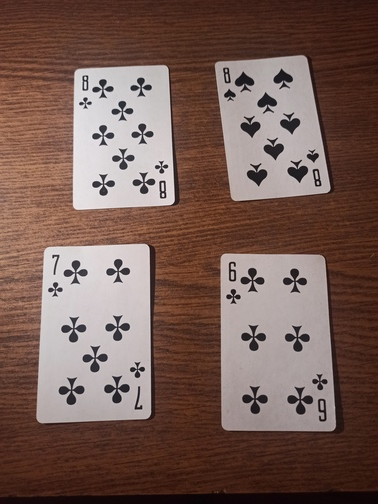eightclubs: (71, 64, 179, 212)
eightspades: (211, 56, 332, 200)
sevenclubs: (36, 245, 155, 422)
sixclubs: (217, 252, 339, 433)
